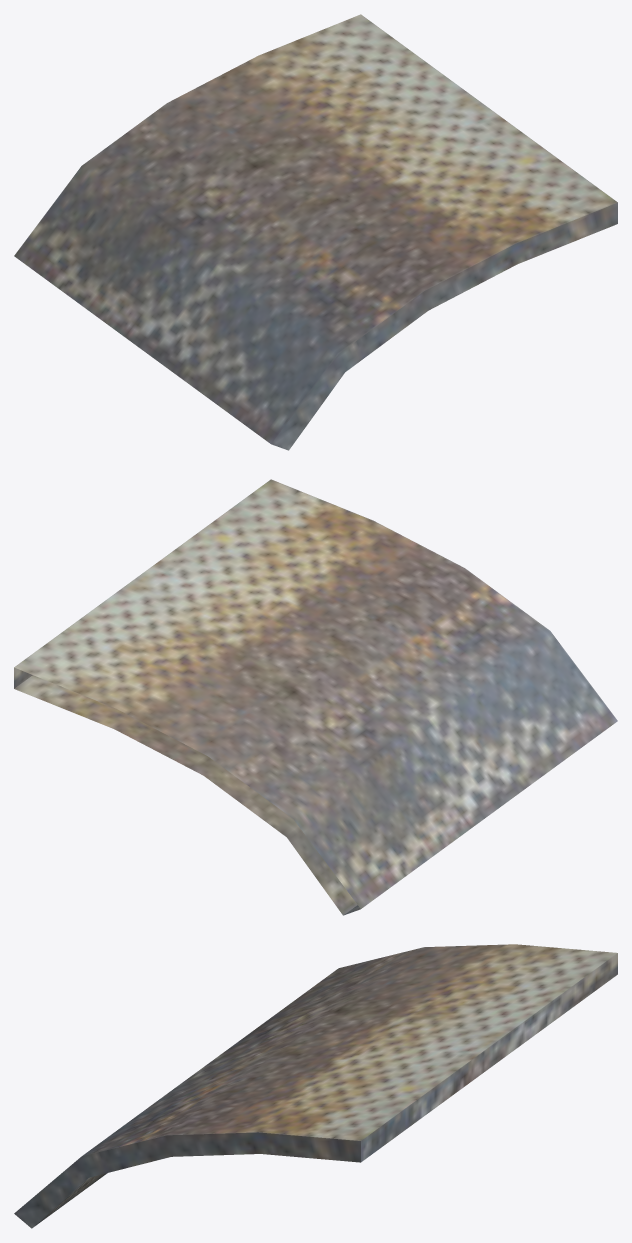
File: BrokenFloor_02.FBX
3 views of the same model, one above another, from view 1: azimuth 30°, elevation 25°; view 2: azimuth 150°, elevation 25°; view 3: azimuth 330°, elevation 25° (orthographic).
Parts seen in each view (by area): view 1: BrokenFloor_02; view 2: BrokenFloor_02; view 3: BrokenFloor_02.
Part boxes in pixels (x1,y1,x2,y2): BrokenFloor_02: [14, 14, 617, 450]; BrokenFloor_02: [14, 479, 617, 915]; BrokenFloor_02: [14, 944, 617, 1228].
Bounding box in the file's own units: 158 × 73.19 × 203.
